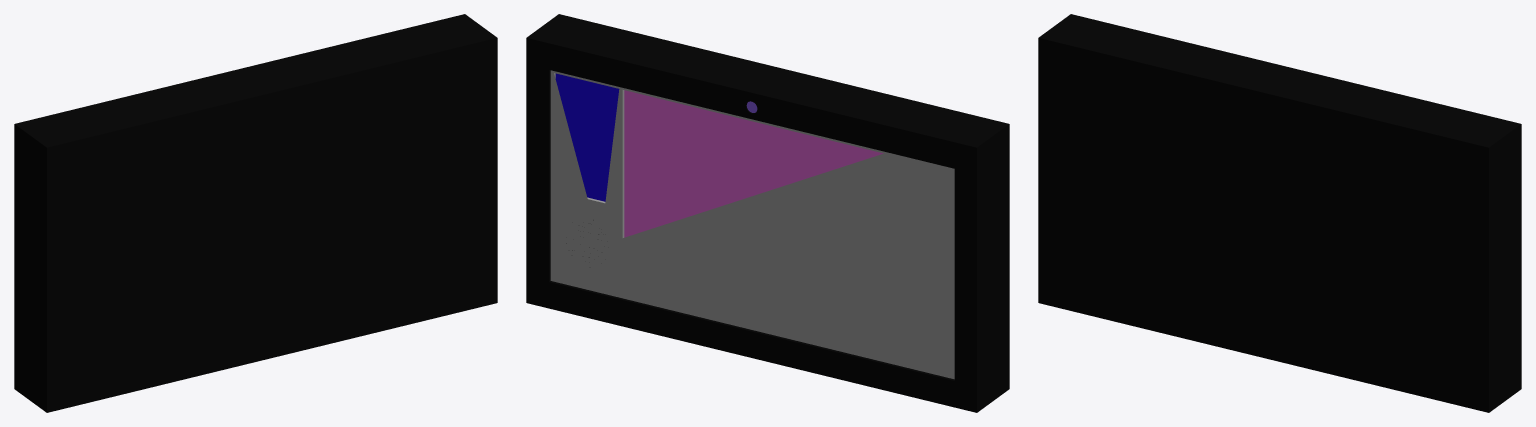
Rendered from InterphoneModel.fbx.
3 renders of one model, left to right at view 1: azimuth 30°, elevation 25°; view 2: azimuth 150°, elevation 25°; view 3: azimuth 330°, elevation 25°, orthographic.
Parts seen in each view (by area): view 1: Cube.001; view 2: Cube.001, Screen1, Screen2; view 3: Cube.001.
Boxes of the visible parts, x1,y1,x2,y2 form: Cube.001: [14, 14, 497, 412]; Cube.001: [526, 14, 1009, 412]; Screen1: [624, 90, 883, 237]; Screen2: [555, 73, 619, 201]; Cube.001: [1038, 14, 1521, 412].
Size of the model in its own units: 800 by 450 by 100.
